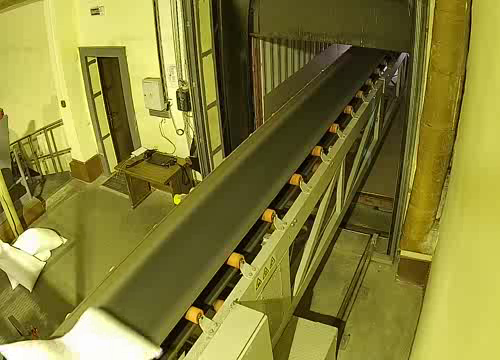bag: (0, 305, 167, 360)
